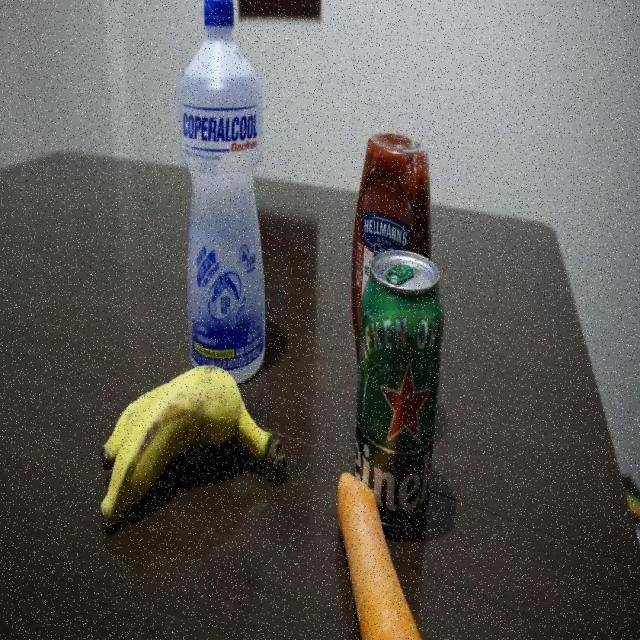AlcoholBottle: (182, 0, 267, 363)
Banana: (99, 363, 286, 531)
BeerCan: (356, 250, 443, 462)
Carrot: (335, 470, 430, 640)
Ketchup: (352, 130, 434, 255)
